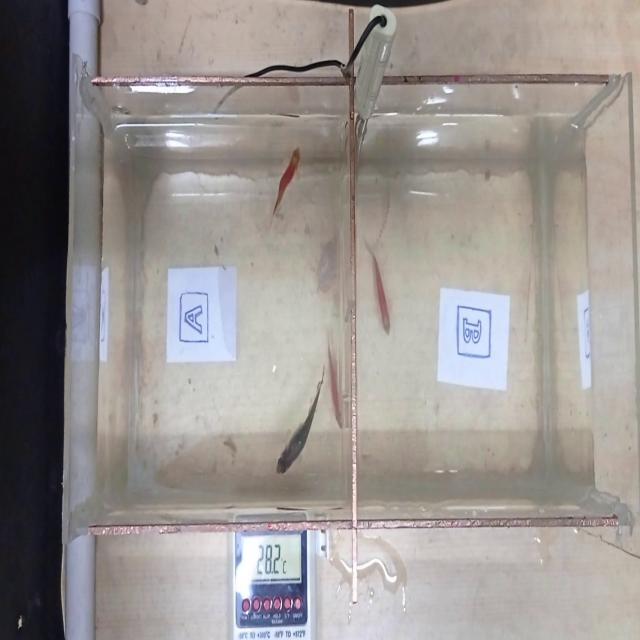Fish A1: (268, 356, 328, 494)
Fish A2: (268, 137, 308, 235)
Fish A3: (323, 328, 350, 448)
Fish B: (360, 229, 404, 346)
